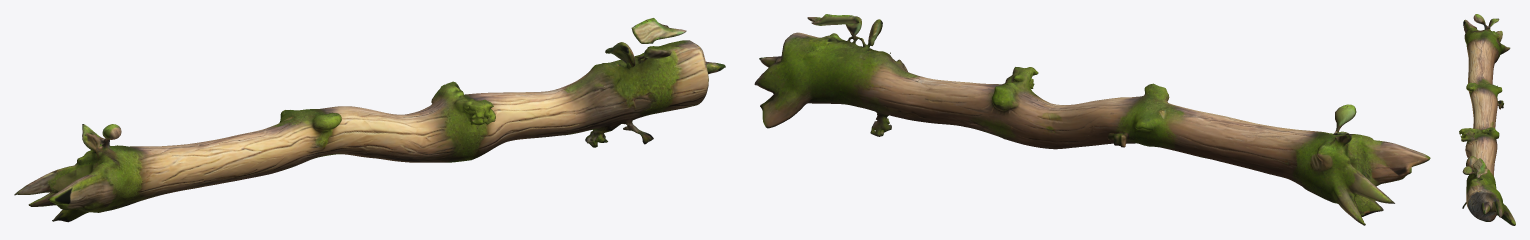
The model's file is Create_a_low_poly_sty_0519061221_texture.fbx.
3 renders of one model, left to right at view 1: azimuth 30°, elevation 25°; view 2: azimuth 150°, elevation 25°; view 3: azimuth 270°, elevation 25°, orthographic. The views are drawn at different scales.
Visible parts, largest first — view 1: Mesh0; view 2: Mesh0; view 3: Mesh0.
Part boxes in pixels (left/top/right/bottom): Mesh0: left=14, top=18, right=725, bottom=222; Mesh0: left=754, top=14, right=1430, bottom=225; Mesh0: left=1459, top=14, right=1515, bottom=225.
Bounding box in the file's own units: 200 × 40.45 × 28.34.
1 material, 1 textured.
